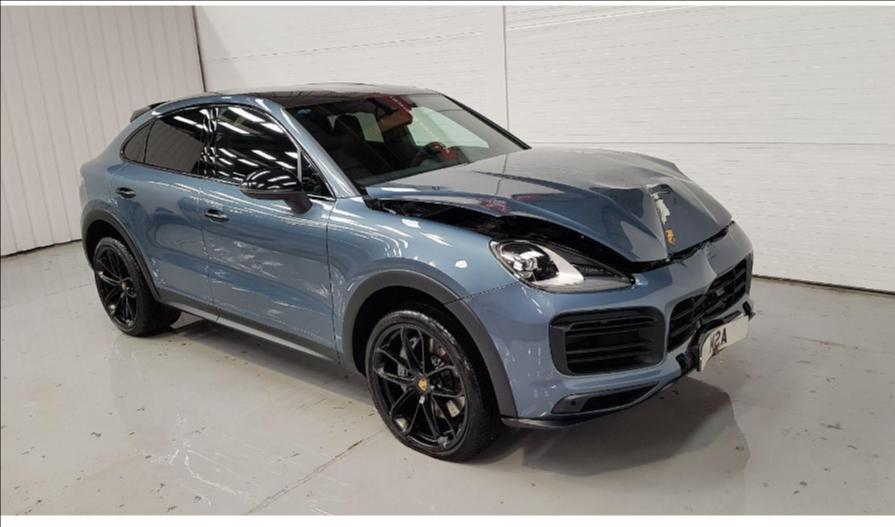Broken part: (361, 148, 738, 283), (667, 259, 747, 352), (701, 315, 748, 371)
Dent: (644, 183, 723, 256), (687, 239, 738, 284), (684, 315, 726, 369)
